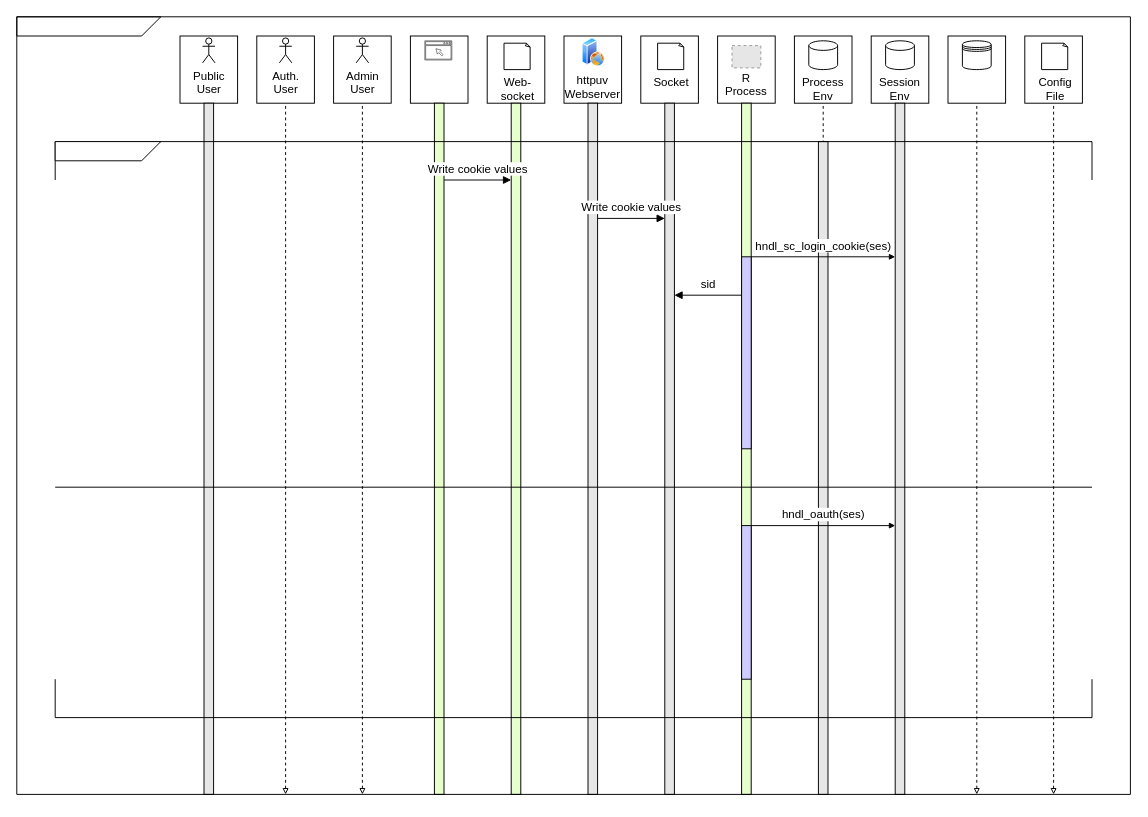
The diagram is 1148 pixels wide and 817 high, and some of its shapes have lost their labels. Grey dashed boxes stand in for pictures. Each missing label, with the centre of its shape:
Browser: point (438, 50)
Data- base: point (976, 55)
Order undefined: point (107, 151)
sd Load Landing Page: point (88, 26)
